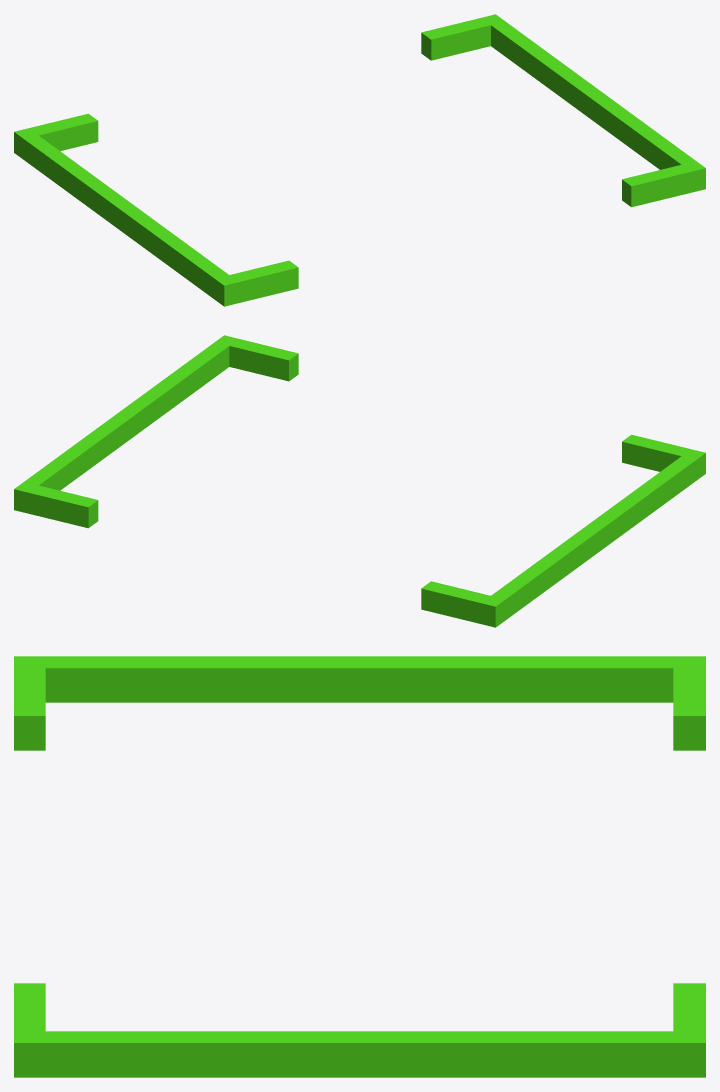
Rendered from selectionbrackets.fbx.
3 renders of one model, top to bottom at view 1: azimuth 30°, elevation 25°; view 2: azimuth 150°, elevation 25°; view 3: azimuth 270°, elevation 25°, orthographic. The views are drawn at different scales.
Visible parts, largest first — view 1: selectionbracket; view 2: selectionbracket; view 3: selectionbracket.
Boxes of the visible parts, left/top/right/bottom form: selectionbracket: left=14, top=14, right=705, bottom=306; selectionbracket: left=14, top=335, right=705, bottom=627; selectionbracket: left=14, top=656, right=705, bottom=1077.
Bounding box in the file's own units: 371 × 15.45 × 280.
